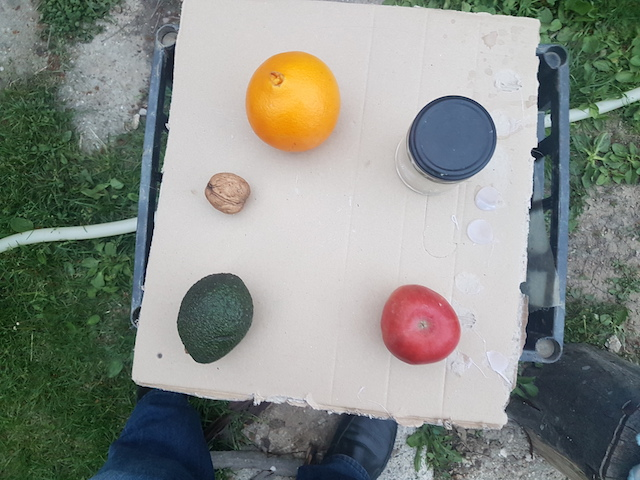apple: (380, 279, 462, 368)
avocado: (176, 272, 256, 367)
nut: (202, 168, 251, 216)
orange: (244, 50, 343, 155)
recipient: (409, 90, 499, 184)
